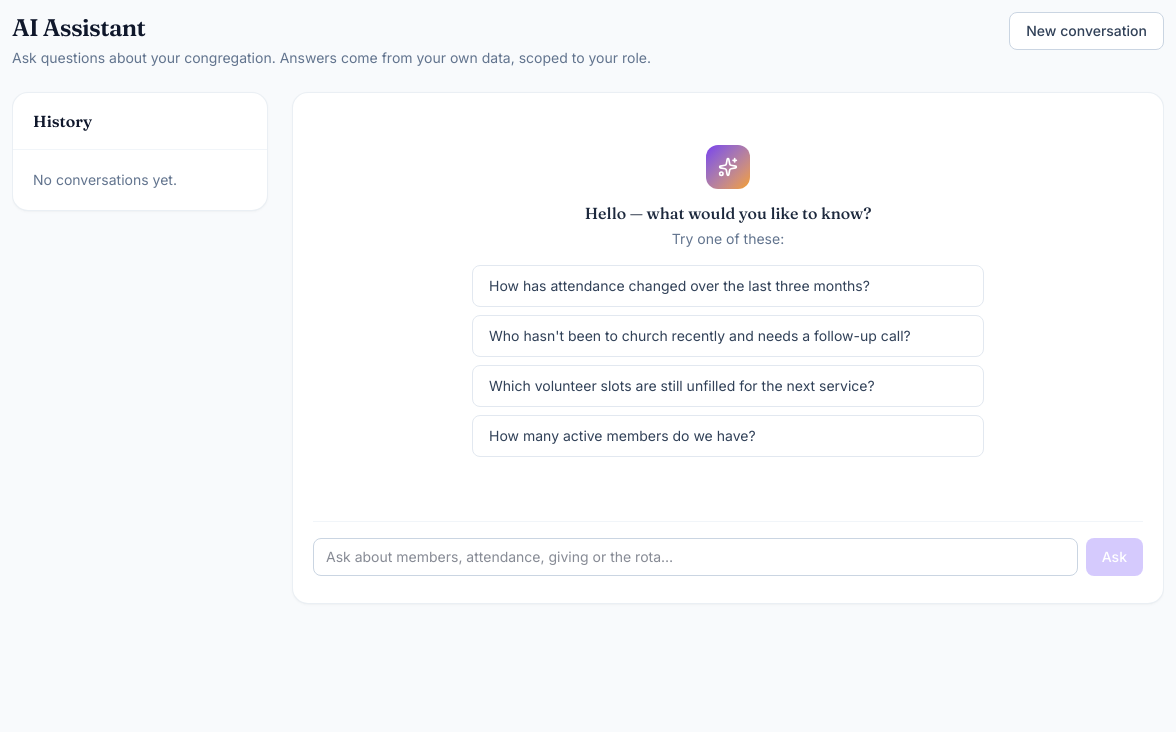
Test: AssistantPage › sends a question and renders the reply as a chat bubble with its sources
Type "How many active members do we have?" into the field with placeholder "Ask about members, attendance, giving or the rota…" at (695, 557), box [313, 538, 1078, 576]
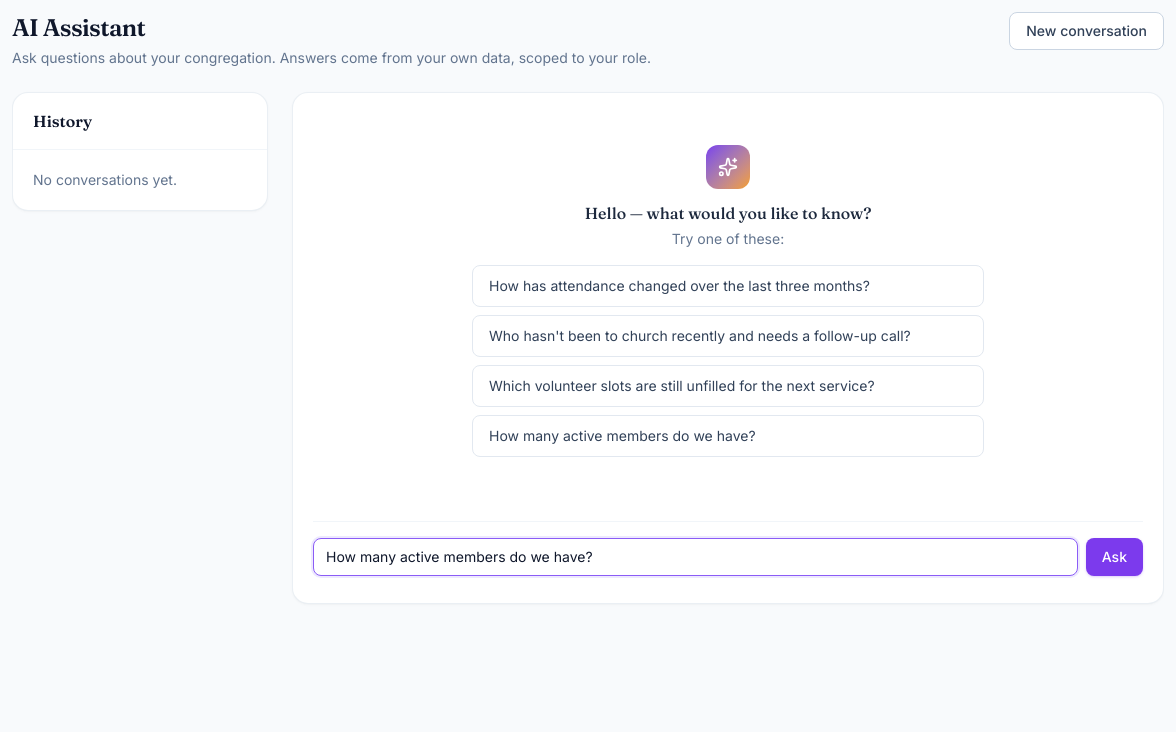
Click the button "Ask" at (1114, 557), box [1086, 538, 1143, 576]
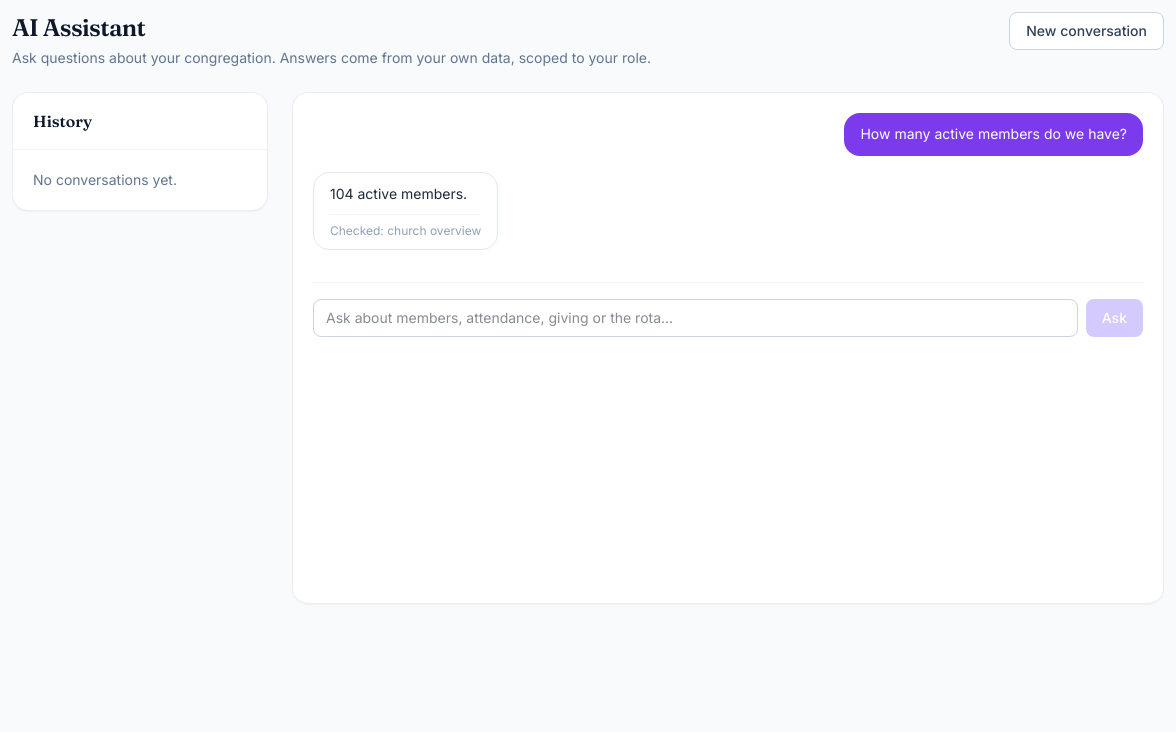
Expected: the text "How many active members do we have?" is shown, [860, 123, 1127, 146]
Now the text "104 active members." is shown, box [330, 183, 481, 206]
Now the text "Checked: church overview" is shown, box [330, 214, 481, 238]
